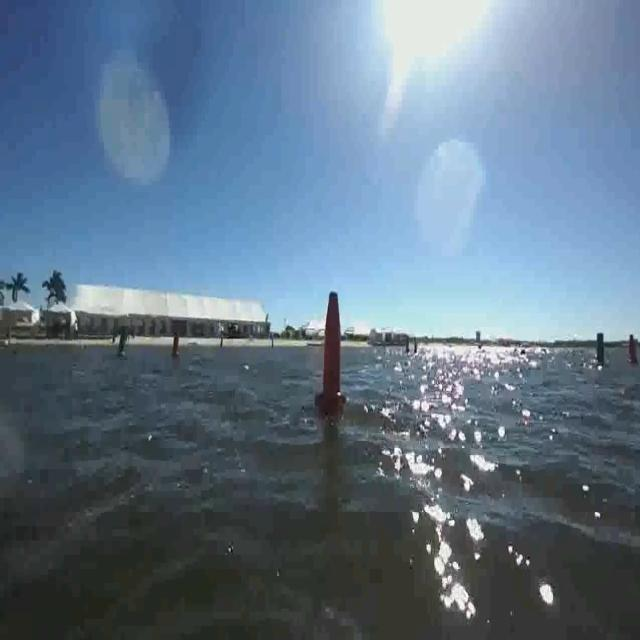green-column-buoy: (592, 333, 605, 368), (115, 327, 128, 360)
red-column-buoy: (316, 287, 346, 411), (627, 334, 639, 368), (171, 333, 182, 360)
